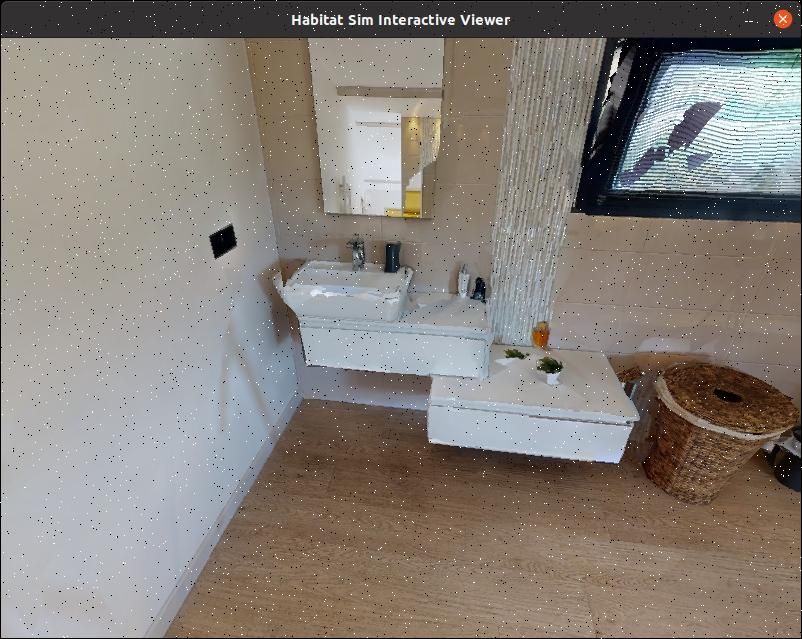sink: (279, 225, 418, 344)
